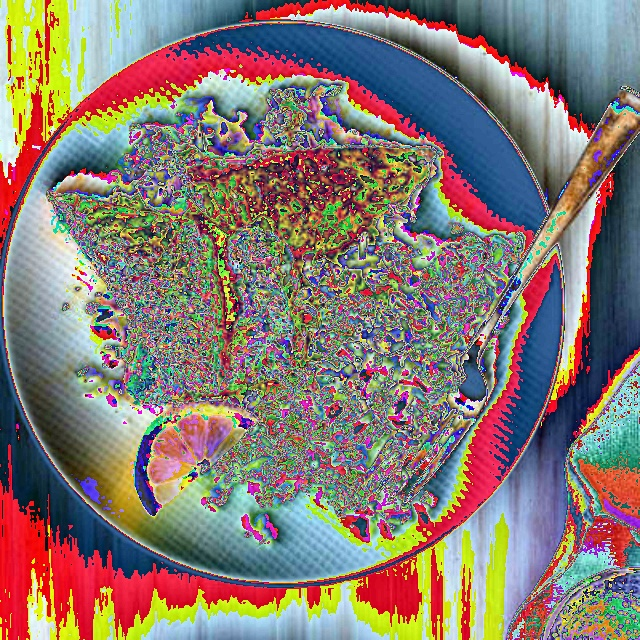background: (47, 84, 523, 547)
